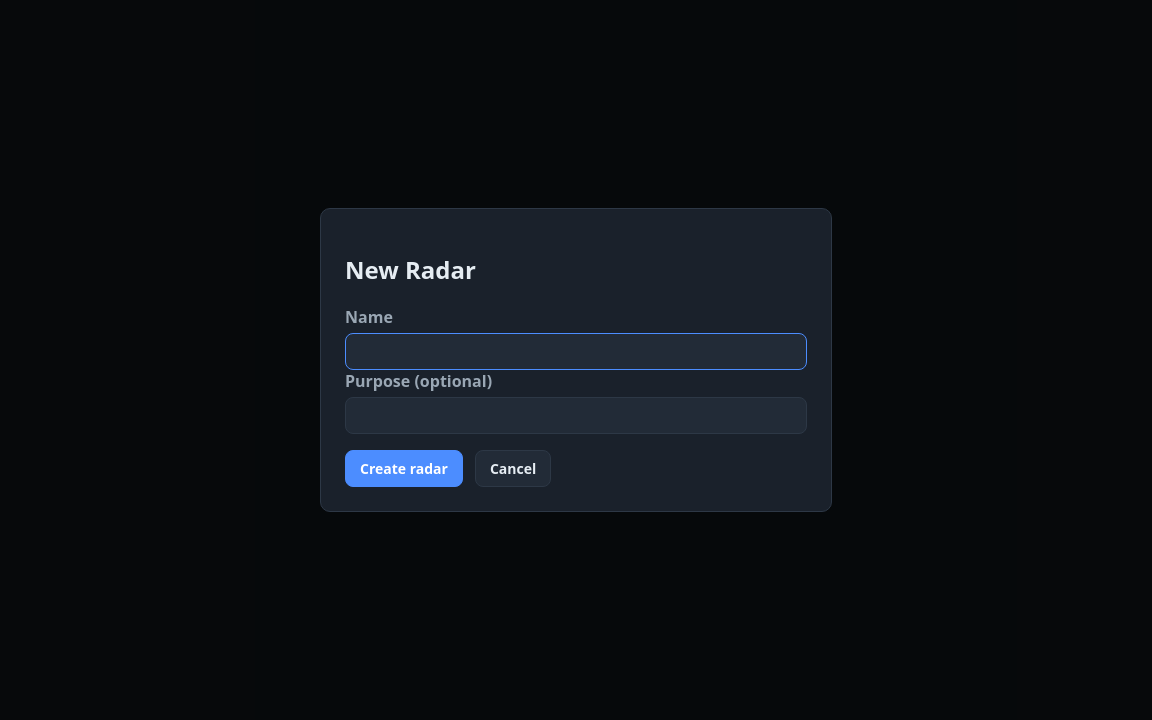
Test: NewRadarForm › blocks submission with a blank name and makes no request
Click the button "Create radar" at [404, 468], box top-left (345, 450), bottom-right (463, 487)
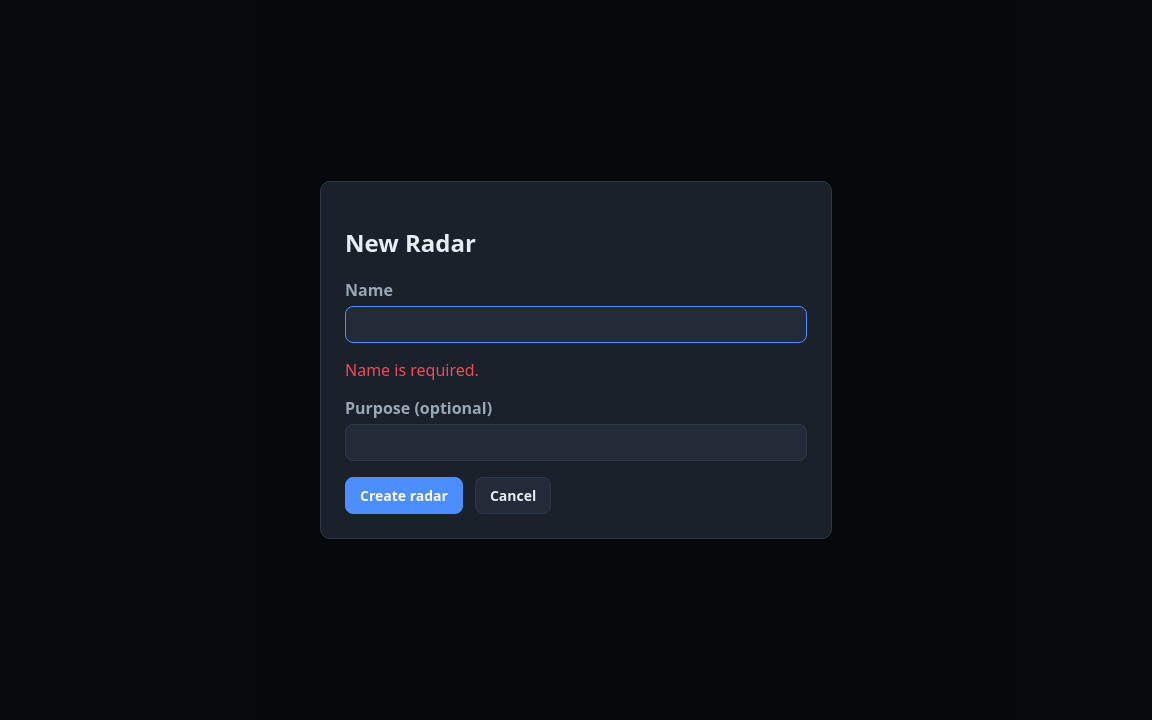
Check: the message reads "Name is required.", box top-left (345, 359), bottom-right (479, 381)
